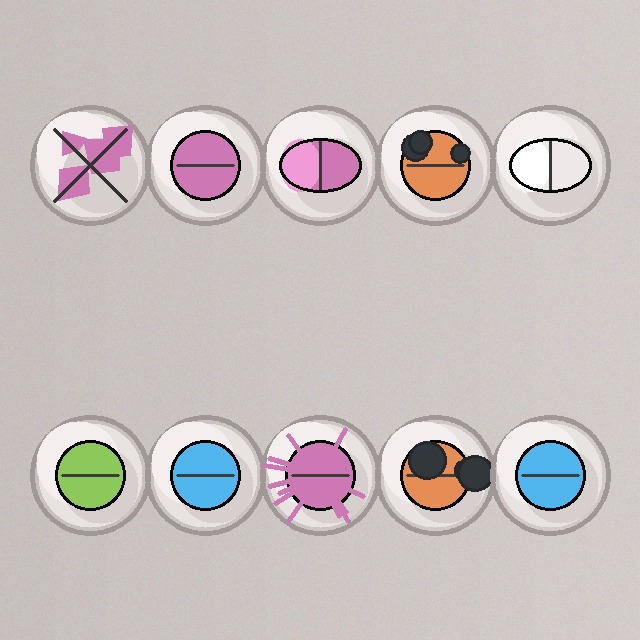broken: (28, 103, 152, 227)
flash: (258, 413, 382, 537)
stain: (373, 103, 497, 227), (373, 413, 497, 537)
